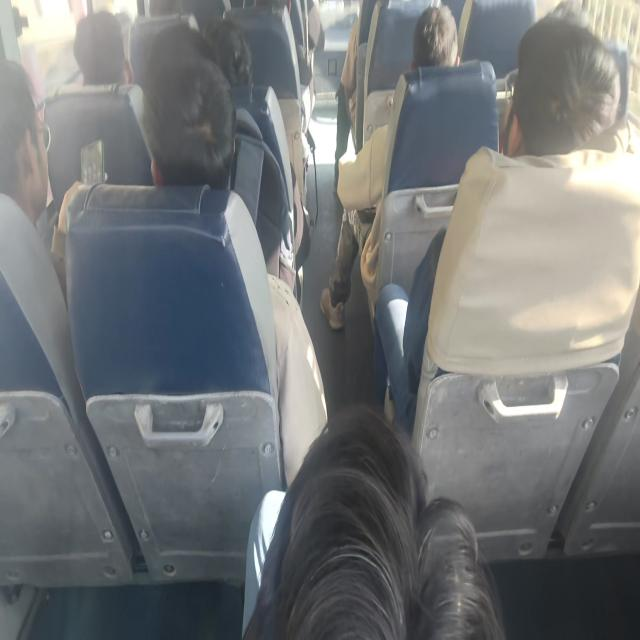person: (259, 446, 492, 640), (133, 30, 247, 215), (491, 24, 614, 157), (0, 64, 47, 278), (409, 5, 468, 87), (76, 16, 127, 110), (204, 17, 256, 93), (342, 31, 376, 126)
